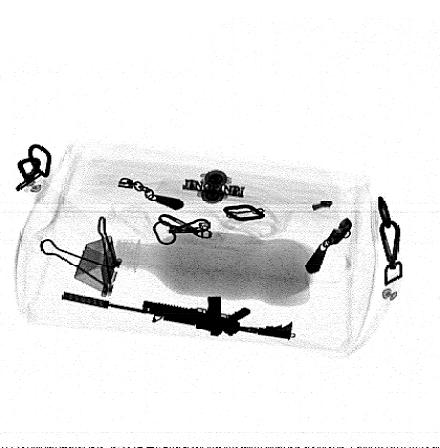Gun: (60, 291, 293, 342)
